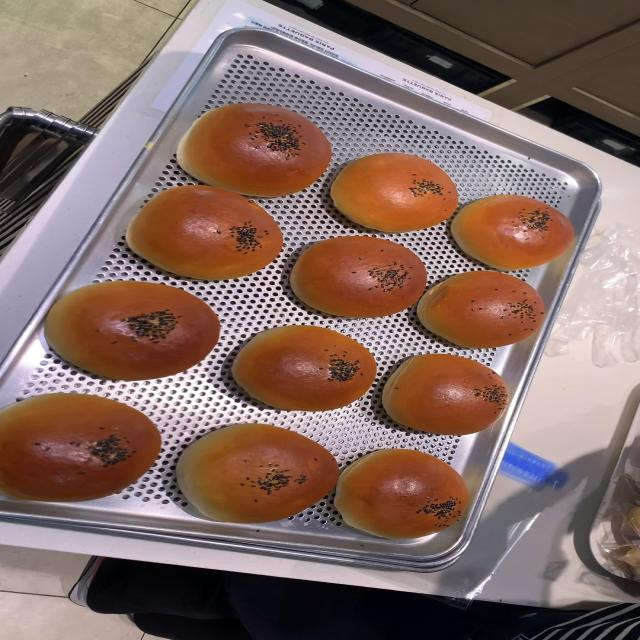bread: (42, 278, 223, 385), (0, 395, 162, 504), (176, 426, 345, 528), (123, 188, 291, 283), (176, 107, 329, 195), (334, 449, 474, 542), (379, 347, 516, 437), (283, 238, 431, 321), (231, 327, 376, 410), (324, 147, 460, 234), (415, 272, 546, 346), (449, 196, 576, 268)
